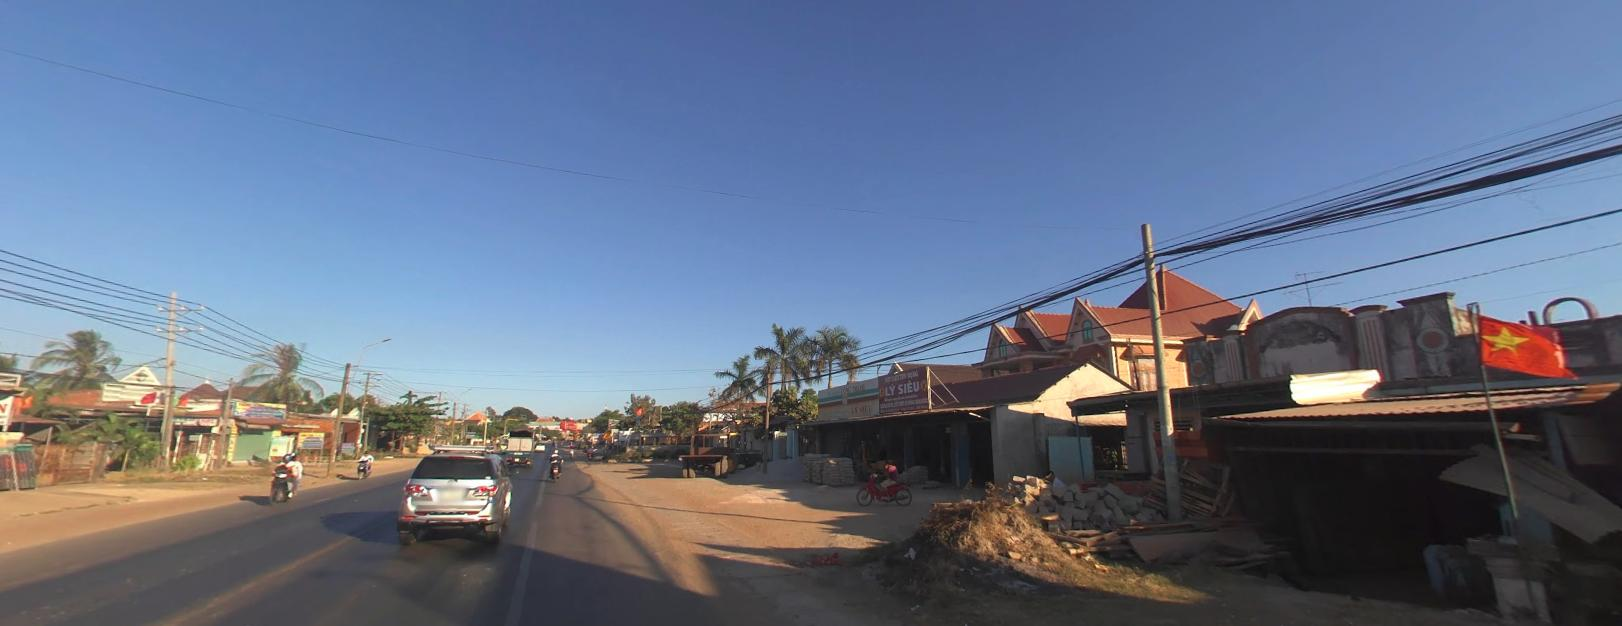Nguy hiem: (599, 428, 612, 438)
